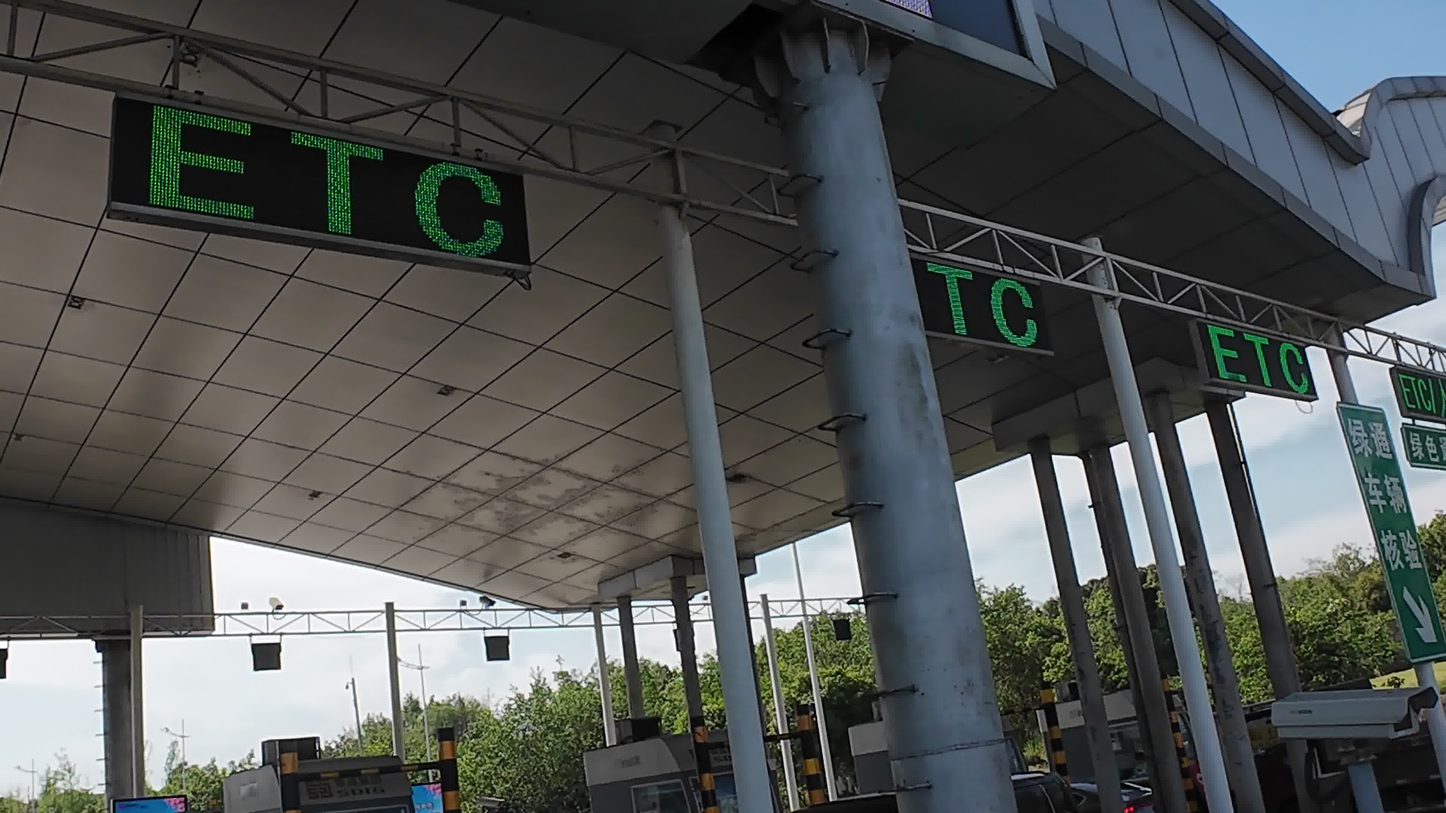led_screen: (113, 101, 524, 274), (912, 248, 1051, 349), (1191, 317, 1315, 396), (464, 625, 522, 678), (254, 626, 298, 676), (1387, 364, 1446, 394)
roadside_plant: (470, 692, 576, 803), (975, 579, 1095, 670), (762, 603, 863, 692), (576, 666, 720, 723)
toll_booth: (224, 745, 410, 811), (576, 737, 741, 811)
warning_sign: (1346, 407, 1446, 651)
